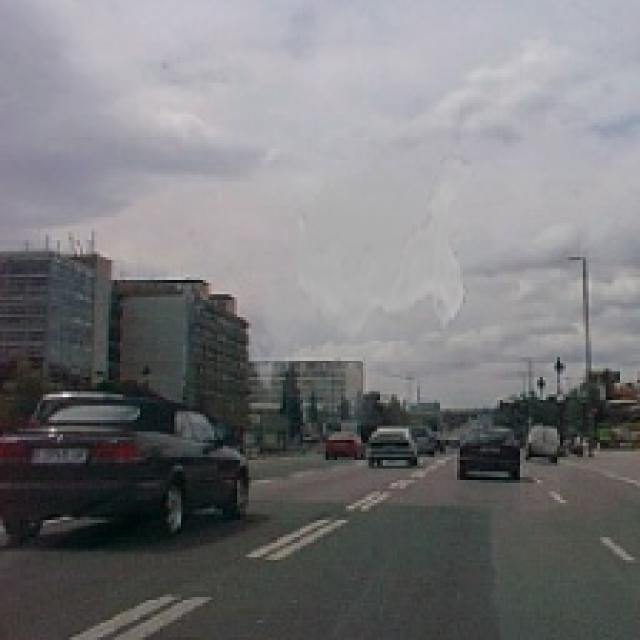Smoke: (246, 148, 471, 426)
